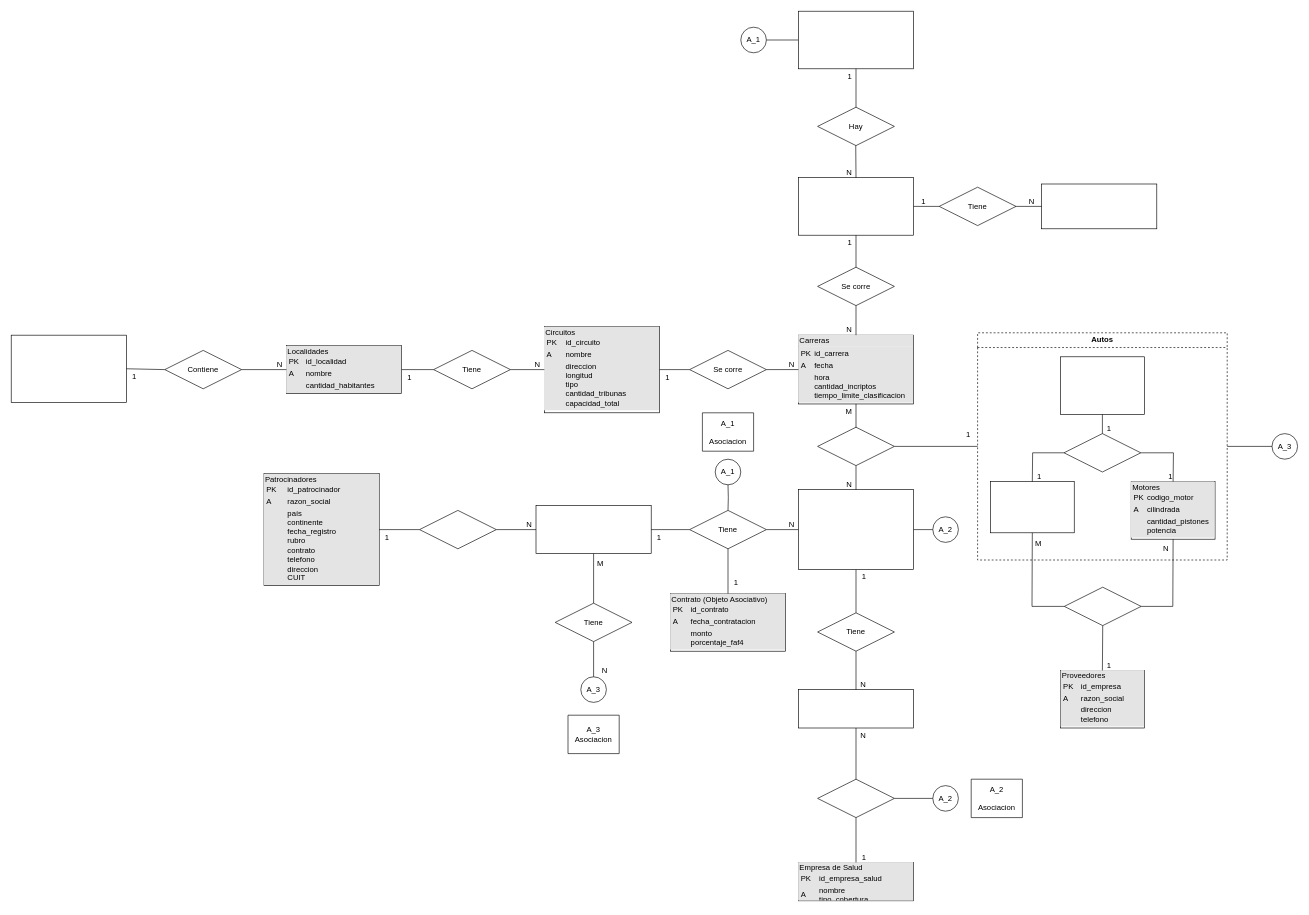
Image size: 1309x915. Some labels were removed from this diagram. Here are the shapes that lost their labels. From the top down, the centre of each, then its label:
the point at 856,40: Años PK año A campeon sub_campeon premio_anual
the point at 856,206: Temporadas PK id_temporada A numero_temporada fecha_inicio fecha_final
the point at 1099,206: Premios PK id_premio A numero_premio monto
the point at 68,368: Provincias PK id_provincia A nombre región capital capacidad_hotelera
the point at 1102,385: Chasis PK num_chasis A largo ancho peso
the point at 855,446: Corre
the point at 1102,452: Se compone
the point at 1032,507: Cubiertas PK codigo_cubierta A tipo resistencia
the point at 457,529: Patrocina
the point at 593,529: Escuderias PK id_escuderia FK1 nombre provincia_origen
the point at 856,529: Pilotos PK id_piloto A dni nombre fecha_nacimiento numero_piloto grupo_sanguineo
the point at 1102,606: Provee
the point at 856,708: Patologia PK codigo_patologia A denominacion
the point at 855,798: Trata
